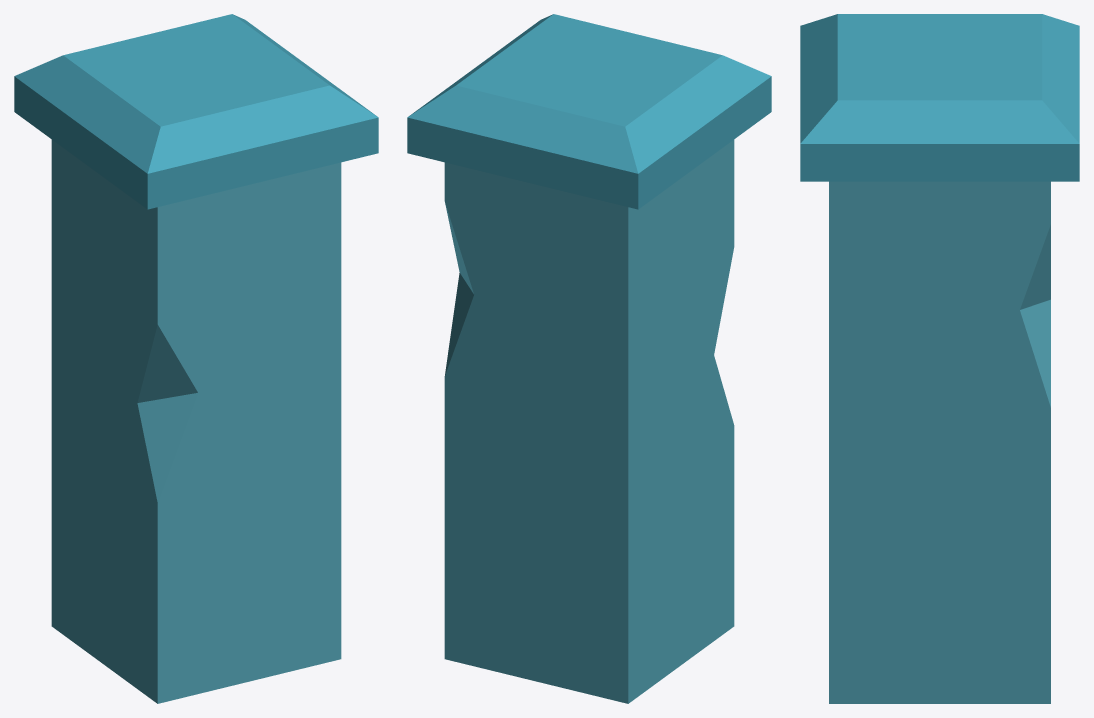
The model's file is SM_Bld_Stone_Wall_End_01.glb.
3 views of the same model, side by side, from view 1: azimuth 30°, elevation 25°; view 2: azimuth 150°, elevation 25°; view 3: azimuth 270°, elevation 25° (orthographic). The views are drawn at different scales.
Visible parts, largest first — view 1: SM_Bld_Stone_Wall_End_01; view 2: SM_Bld_Stone_Wall_End_01; view 3: SM_Bld_Stone_Wall_End_01.
Part boxes in pixels (x1,y1,x2,y2): SM_Bld_Stone_Wall_End_01: (14,14,378,703); SM_Bld_Stone_Wall_End_01: (407,14,771,703); SM_Bld_Stone_Wall_End_01: (800,14,1079,703).
Size of the model in its own units: 0.00696 by 0.0165 by 0.00696.
